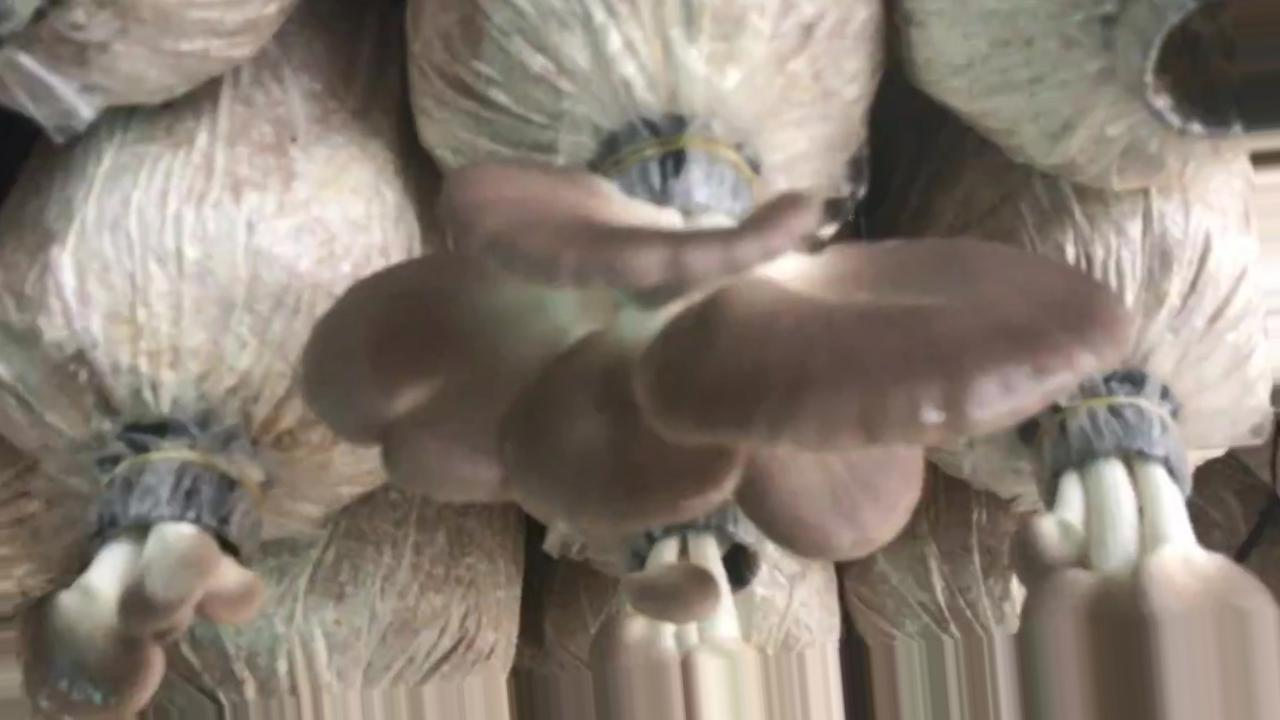nam: (295, 120, 1127, 562), (1014, 382, 1271, 720), (14, 445, 267, 720), (591, 516, 767, 720)
